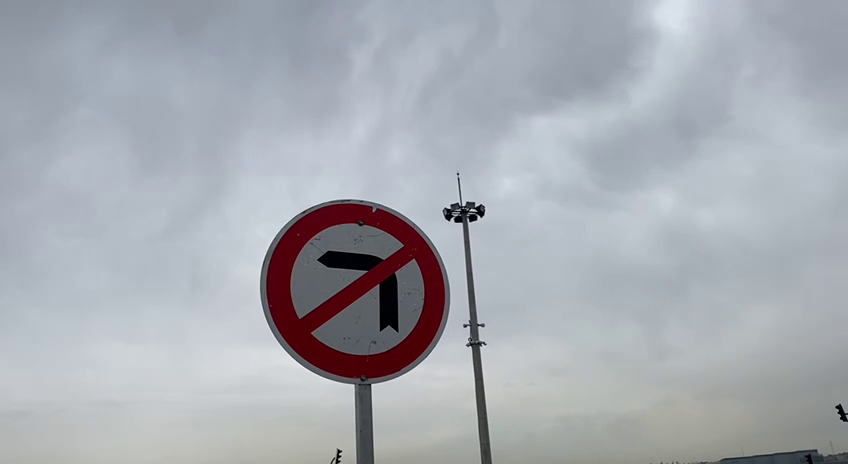noTurnLeft: (252, 193, 457, 387)
